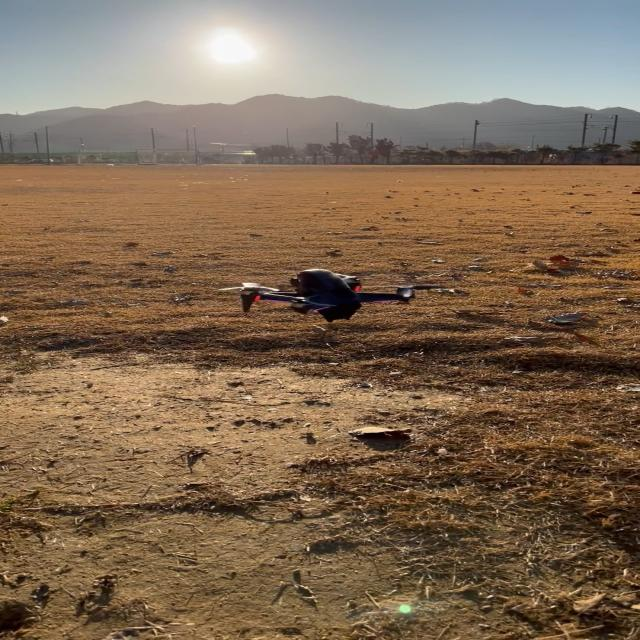drone: (216, 268, 441, 323)
